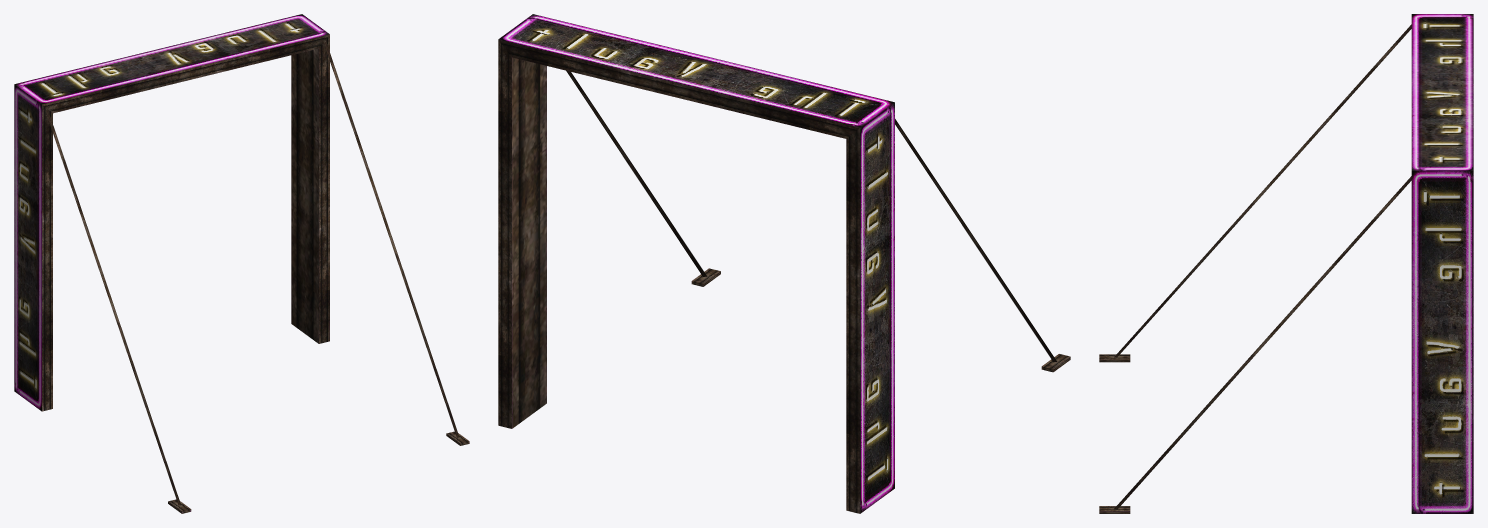
The model's file is vault.fbx.
The picture shows the model from 3 angles, left to right: view 1: azimuth 30°, elevation 25°; view 2: azimuth 150°, elevation 25°; view 3: azimuth 270°, elevation 25°; orthographic projection. The views are drawn at different scales.
Visible parts, largest first — view 1: mesh_0; view 2: mesh_0; view 3: mesh_0.
Boxes of the visible parts, x1,y1,x2,y2 form: mesh_0: [14, 14, 469, 513]; mesh_0: [498, 14, 1070, 513]; mesh_0: [1099, 14, 1473, 513].
Size of the model in its own units: 600 by 612 by 605.
1 material, 1 textured.
